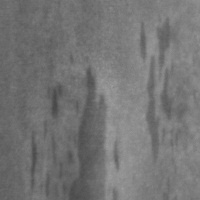inclusion: (58, 62, 124, 200), (137, 13, 189, 172), (28, 119, 74, 200), (43, 79, 67, 122)
